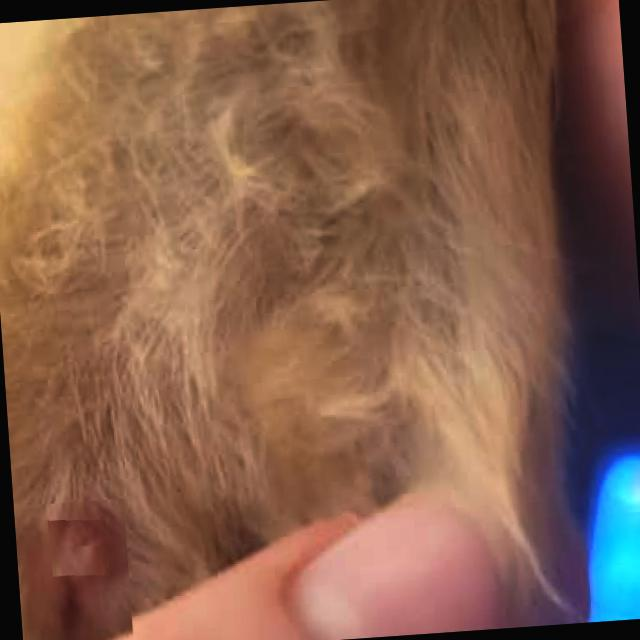mae: (14, 498, 132, 640)
mal: (48, 520, 106, 576)
